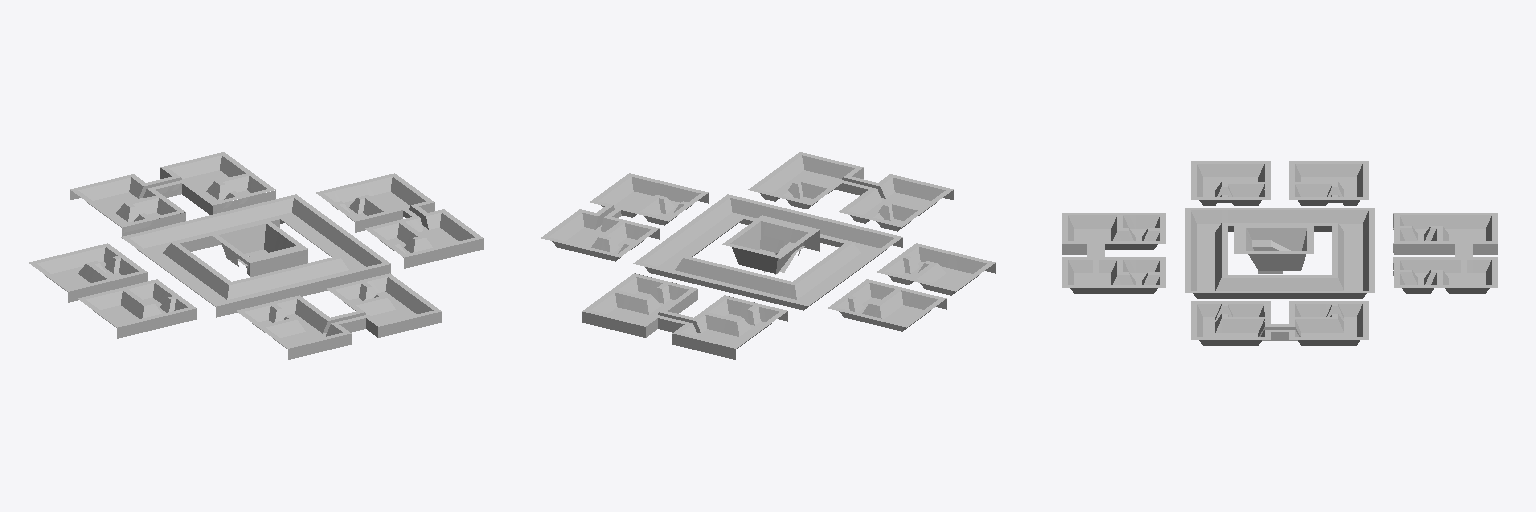
Rendered from hotelRooms.obj.
3 views of the same model, side by side, from view 1: azimuth 30°, elevation 25°; view 2: azimuth 150°, elevation 25°; view 3: azimuth 270°, elevation 25° (orthographic).
Parts seen in each view (by area): view 1: mesh.RoomsHotel_Plane.005, meshHallwayHotel_Plane.003; view 2: mesh.RoomsHotel_Plane.005, meshHallwayHotel_Plane.003; view 3: mesh.RoomsHotel_Plane.005, meshHallwayHotel_Plane.003.
Boxes of the visible parts, box(x1,y1,x2,y2) form: mesh.RoomsHotel_Plane.005: box(29, 152, 483, 359); meshHallwayHotel_Plane.003: box(121, 194, 390, 317); mesh.RoomsHotel_Plane.005: box(541, 152, 995, 359); meshHallwayHotel_Plane.003: box(633, 194, 902, 310); mesh.RoomsHotel_Plane.005: box(1062, 161, 1497, 345); meshHallwayHotel_Plane.003: box(1185, 208, 1374, 298).
Size of the model in its own units: 69 by 6 by 71.03.